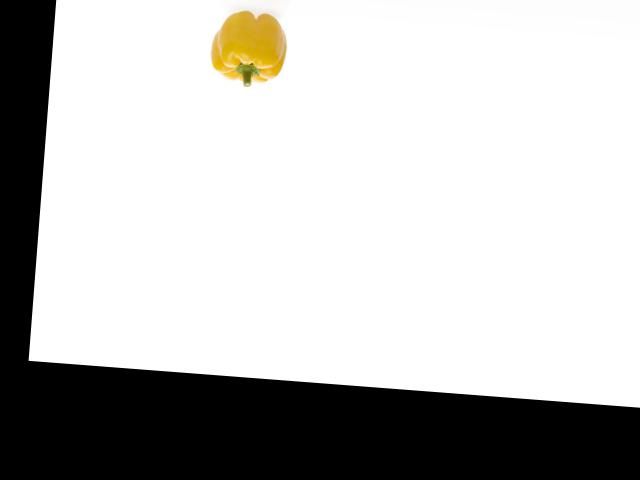bell_pepper: (203, 6, 288, 92)
